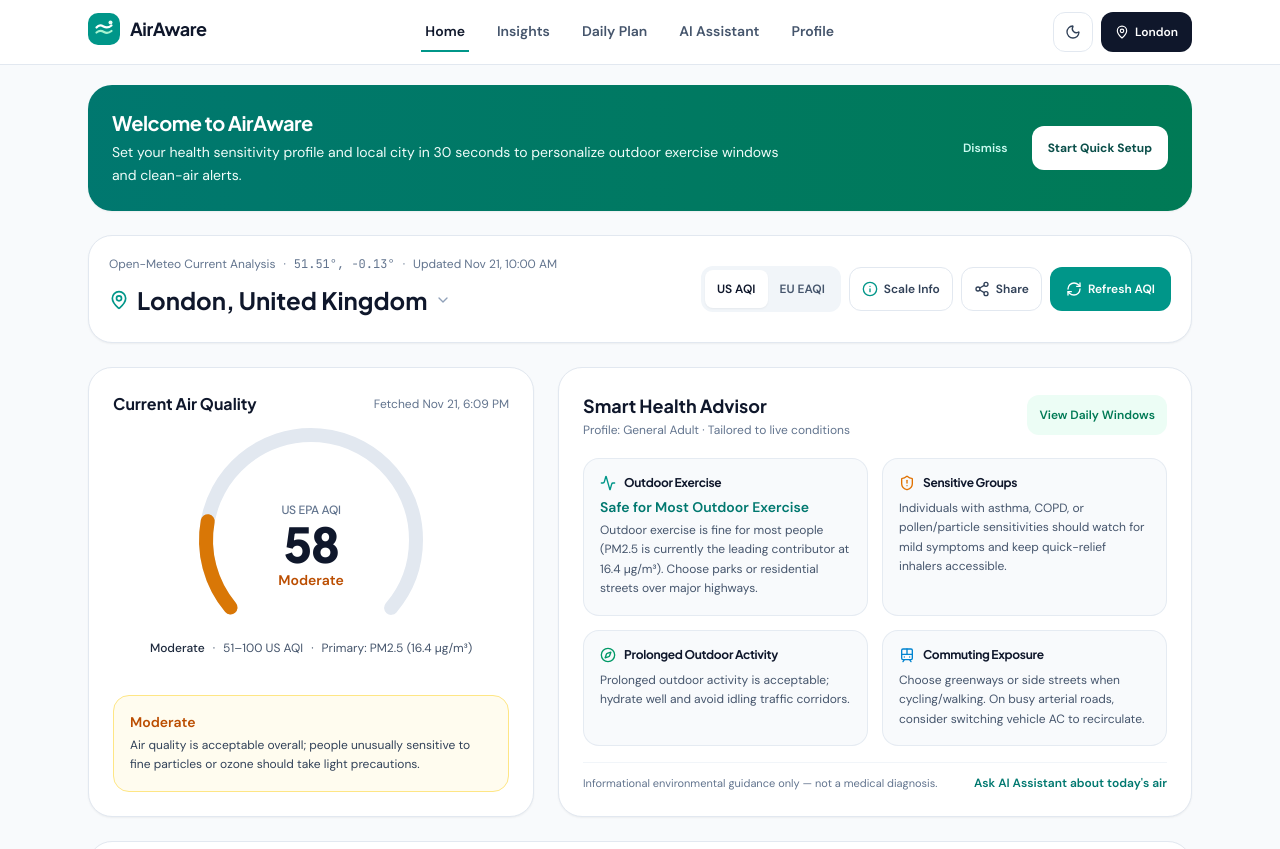
Test: AirAware Application Workflows › navigates across Insights, Daily Plan, AI Assistant, and Profile dark mode toggle
Later steps or results of the test are not shown.
expect the text "58" is shown: met, box [283,520,339,568]
// Insights tab
Click the button "Insights". click: (523, 32)
box: [493,12,554,52]
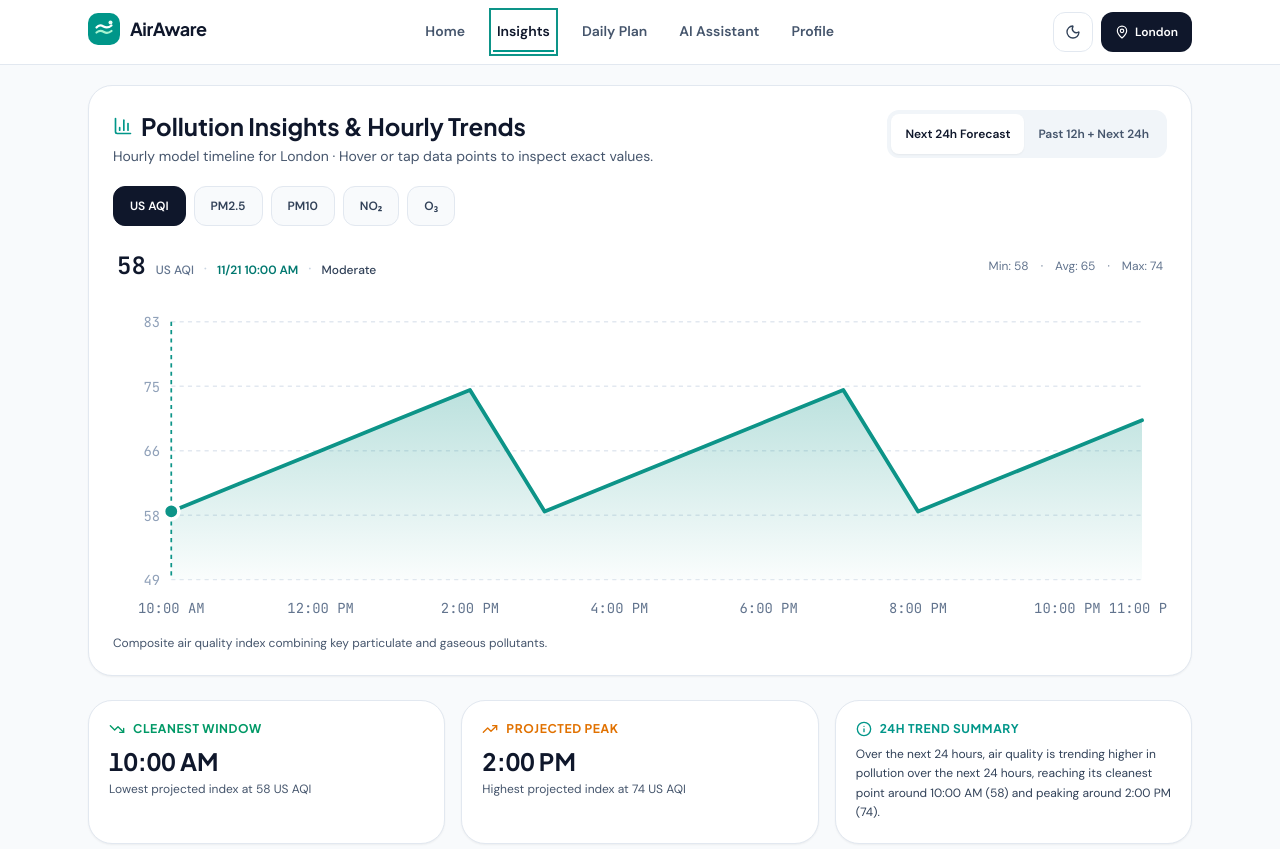
expect the heading "Pollution Insights & Hourly Trends" is shown: met, box [141,110,526,142]
expect the picture named "Hourly AQI Index chart" is shown: met, box [113,294,1167,627]
// Daily Plan + Community Tracker persistence
Click the button "Daily Plan". click: (615, 32)
box: [578,12,651,52]
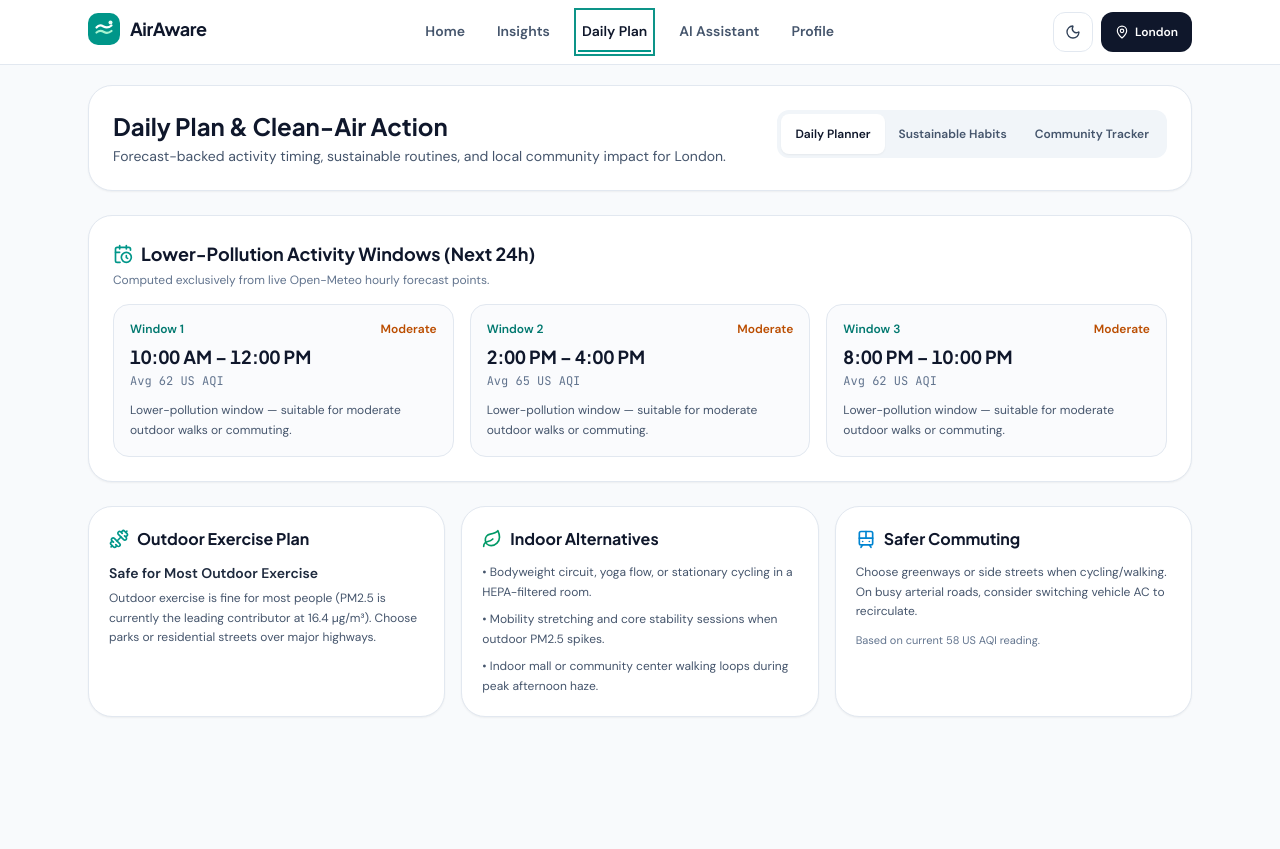
expect the heading "Lower-Pollution Activity Windows (Next 24h)" is shown: met, box [141,240,535,268]
Click the button "Community Tracker". click: (1092, 134)
box: [1021,114,1163,154]
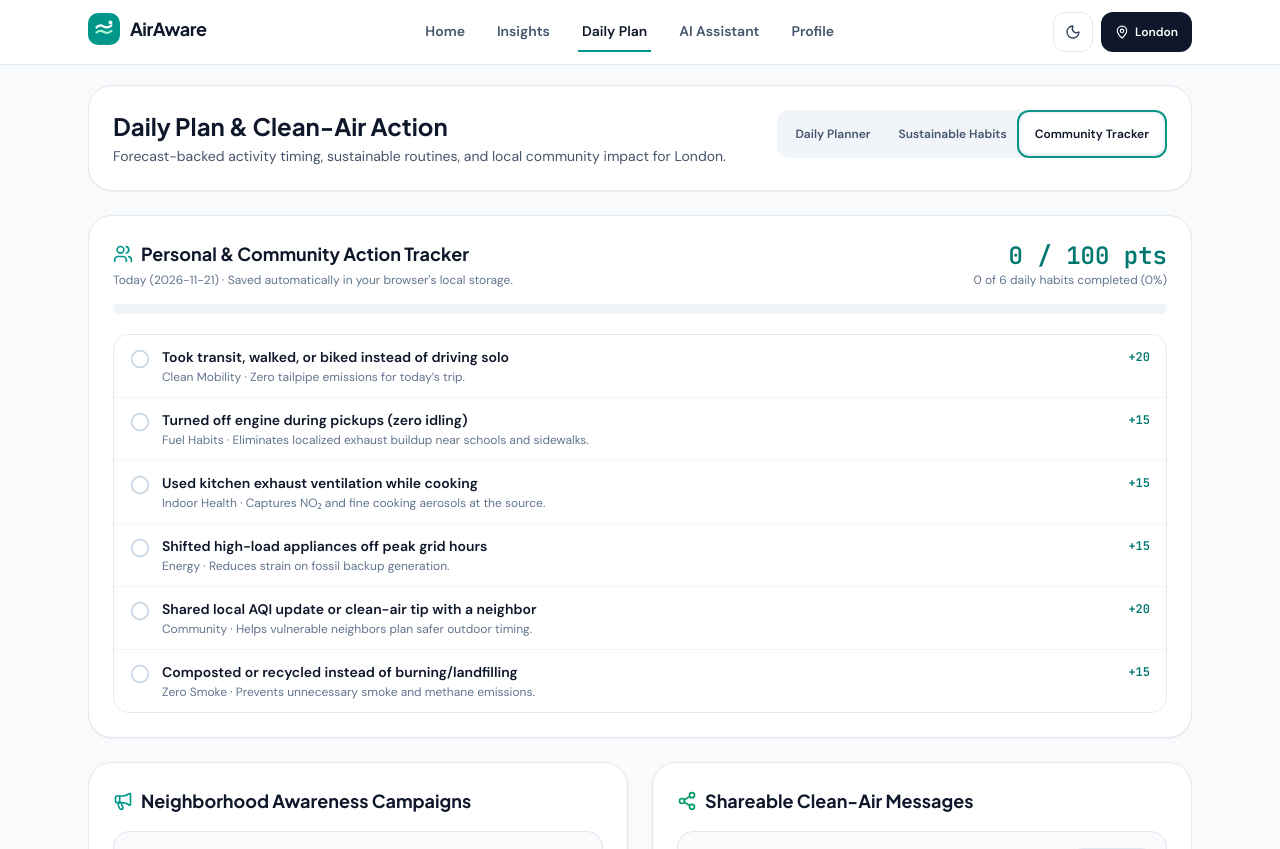
Click the button "Took transit, walked, or biked". click: (336, 357)
box: [114,335,1166,398]
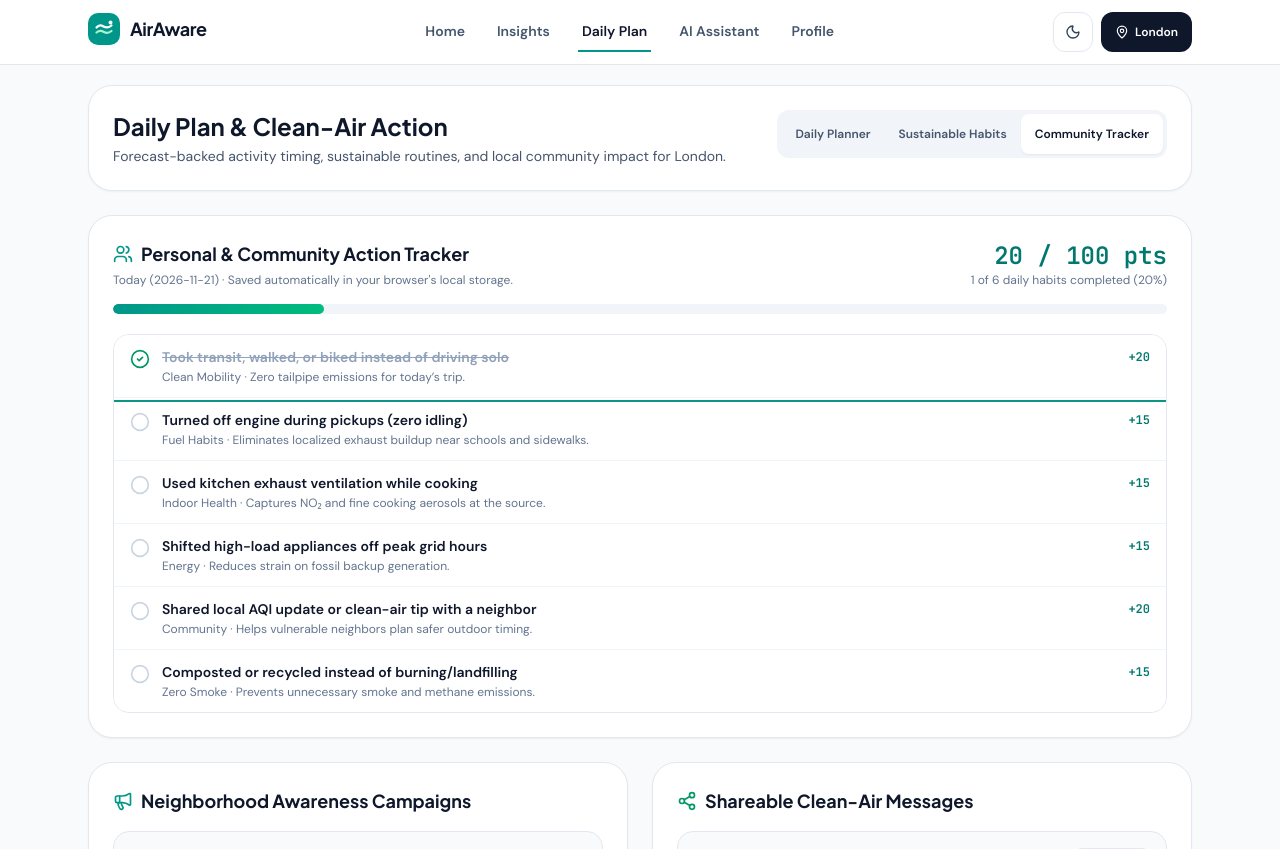
expect the text "20 / 100 pts" is shown: met, box [971,240,1167,272]
// AI Assistant (rule-based mode with live data)
Click the button "AI Assistant". click: (719, 32)
box: [675,12,764,52]
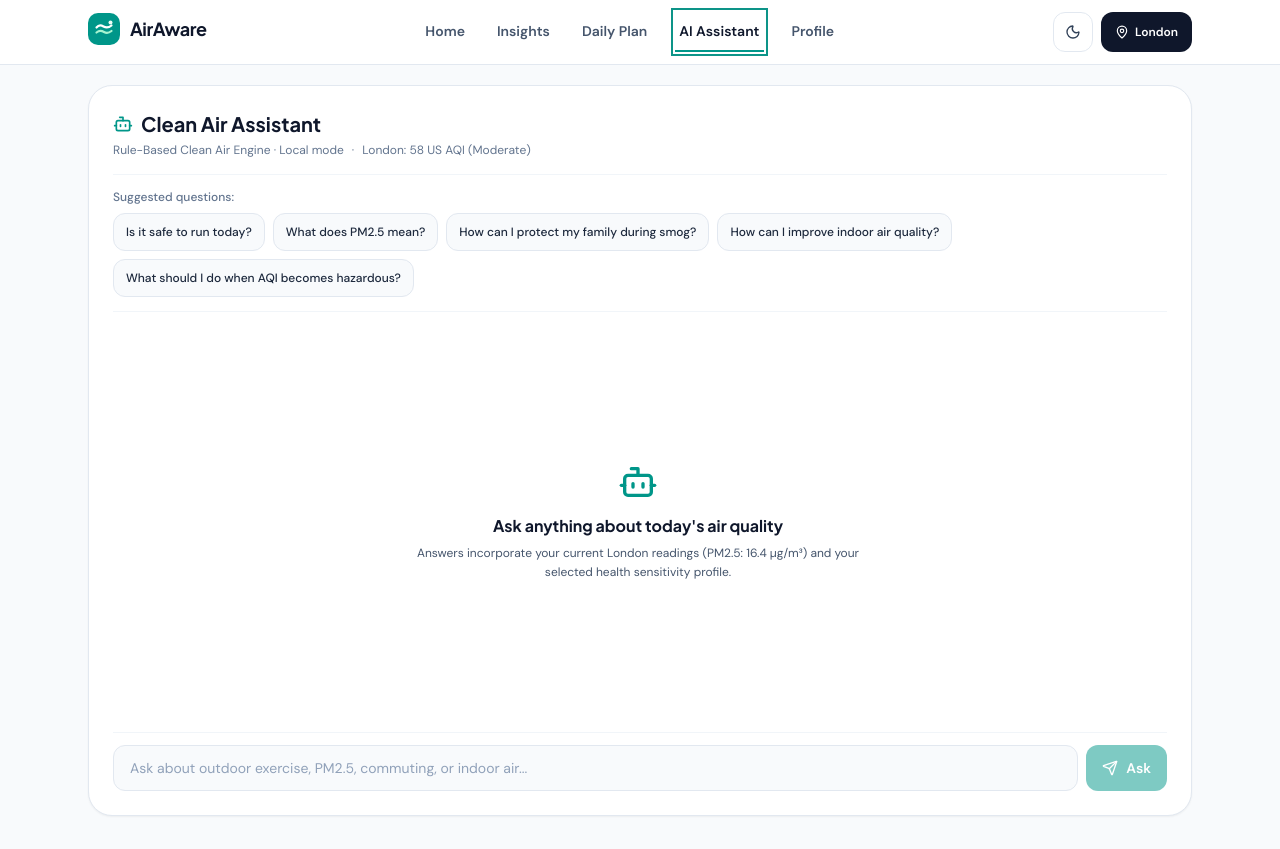
expect the text "Rule-Based Clean Air Engine · Local mode" is shown: met, box [113,142,344,158]
Click the button "Is it safe to run today?". click: (189, 232)
box: [113,213,265,251]
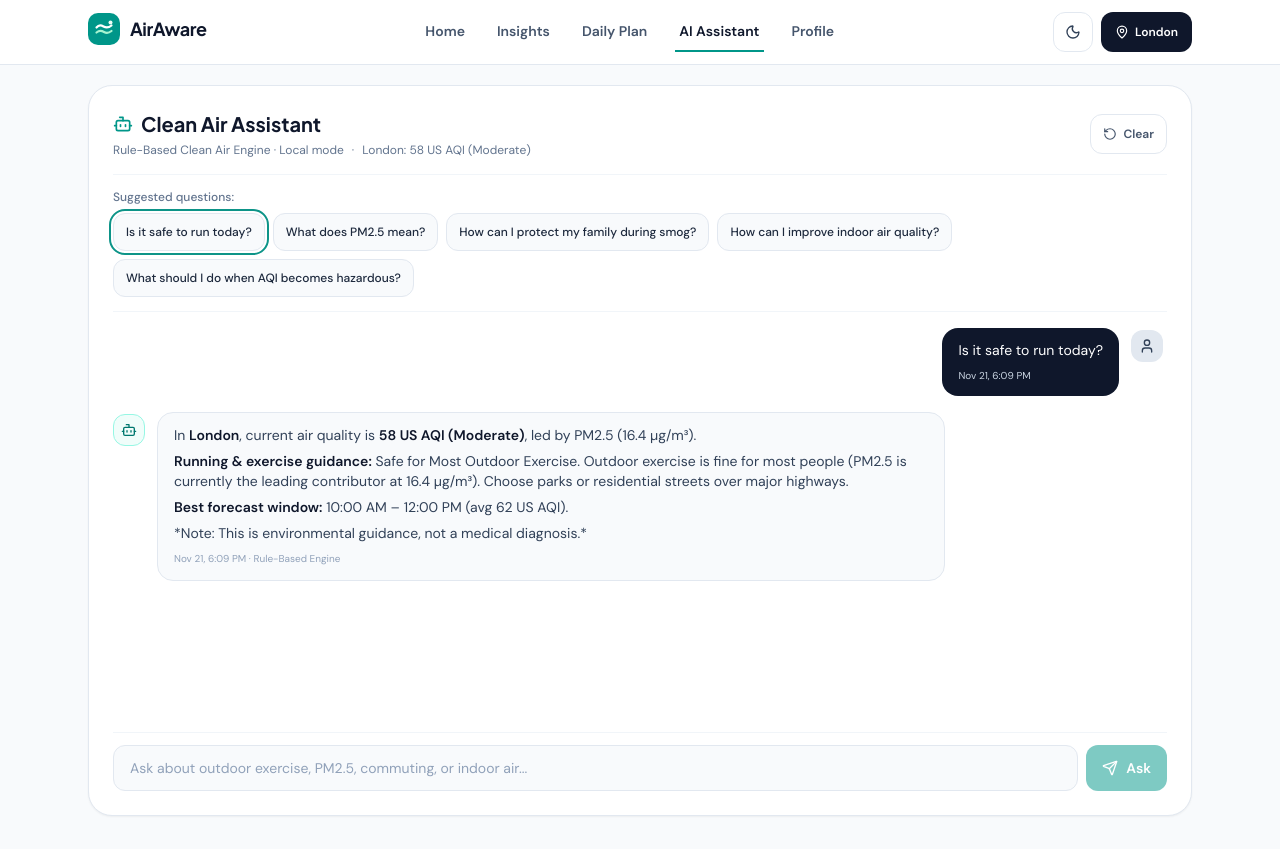
expect the text "Running & exercise guidance:" is shown: met, box [174,452,372,470]
